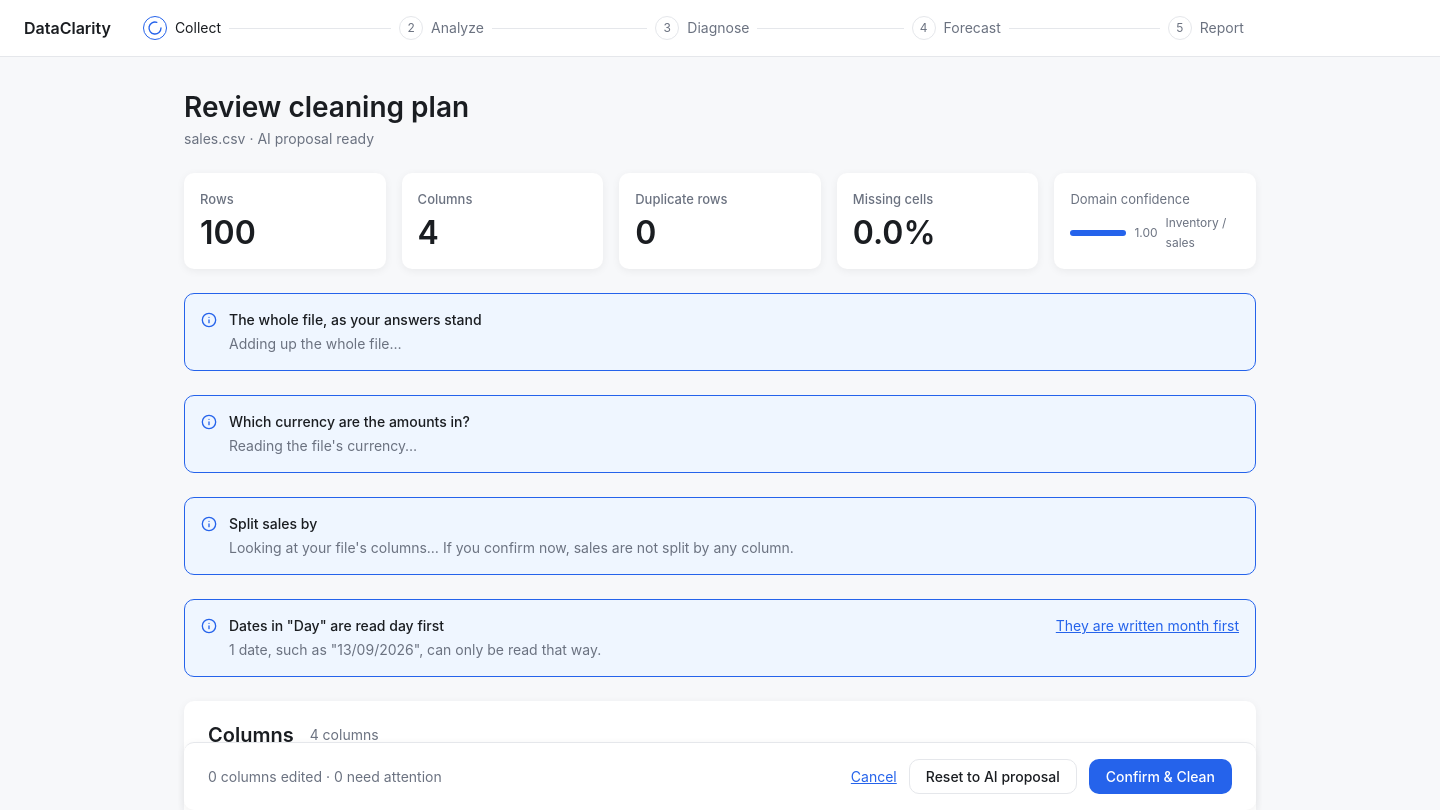
Test: ReviewPage: how the dates are written › can go back to the proof after overriding it
Click the button "They are written month first": (1147, 626) [1056,616,1239,636]
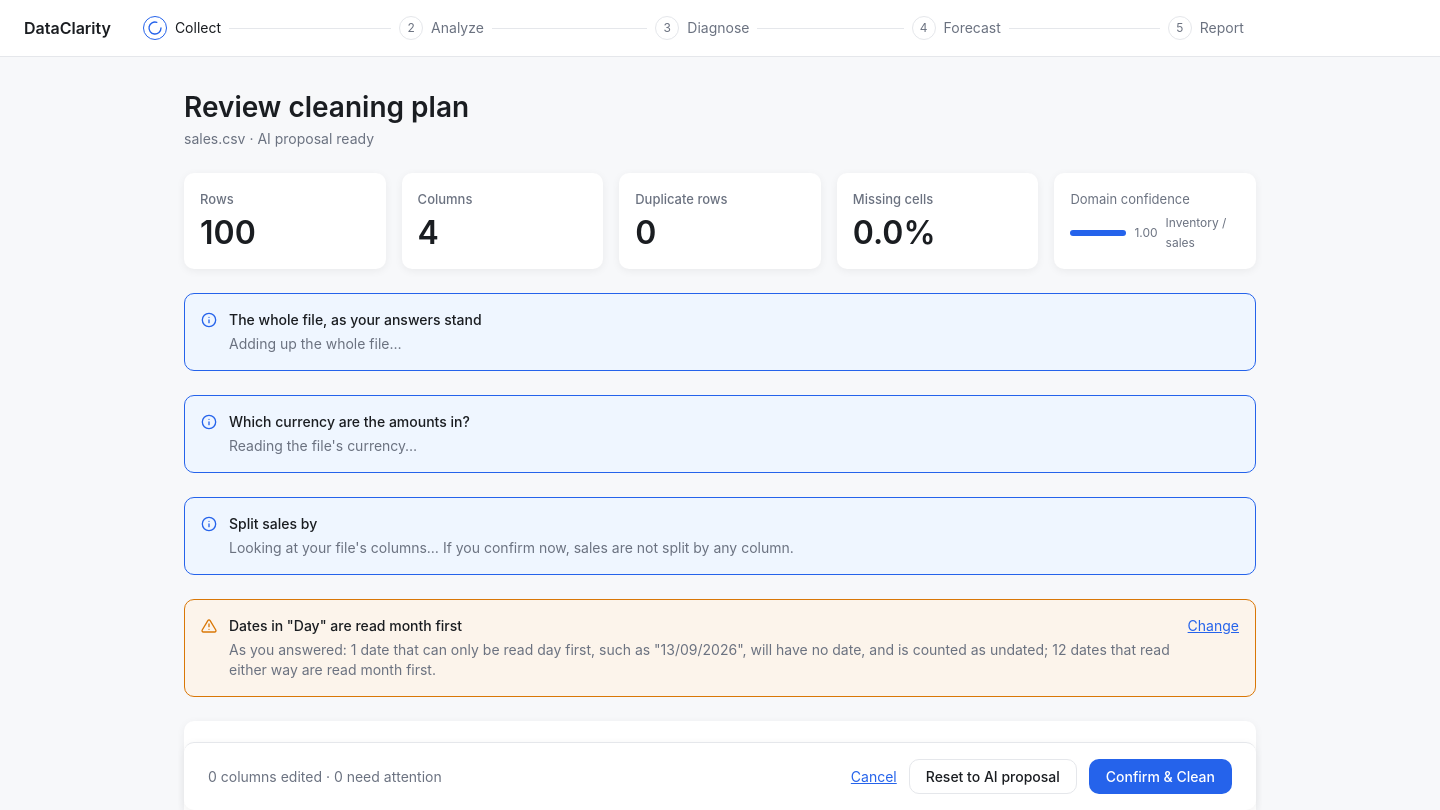
Click the button "Change": (1213, 626) [1188,616,1239,636]
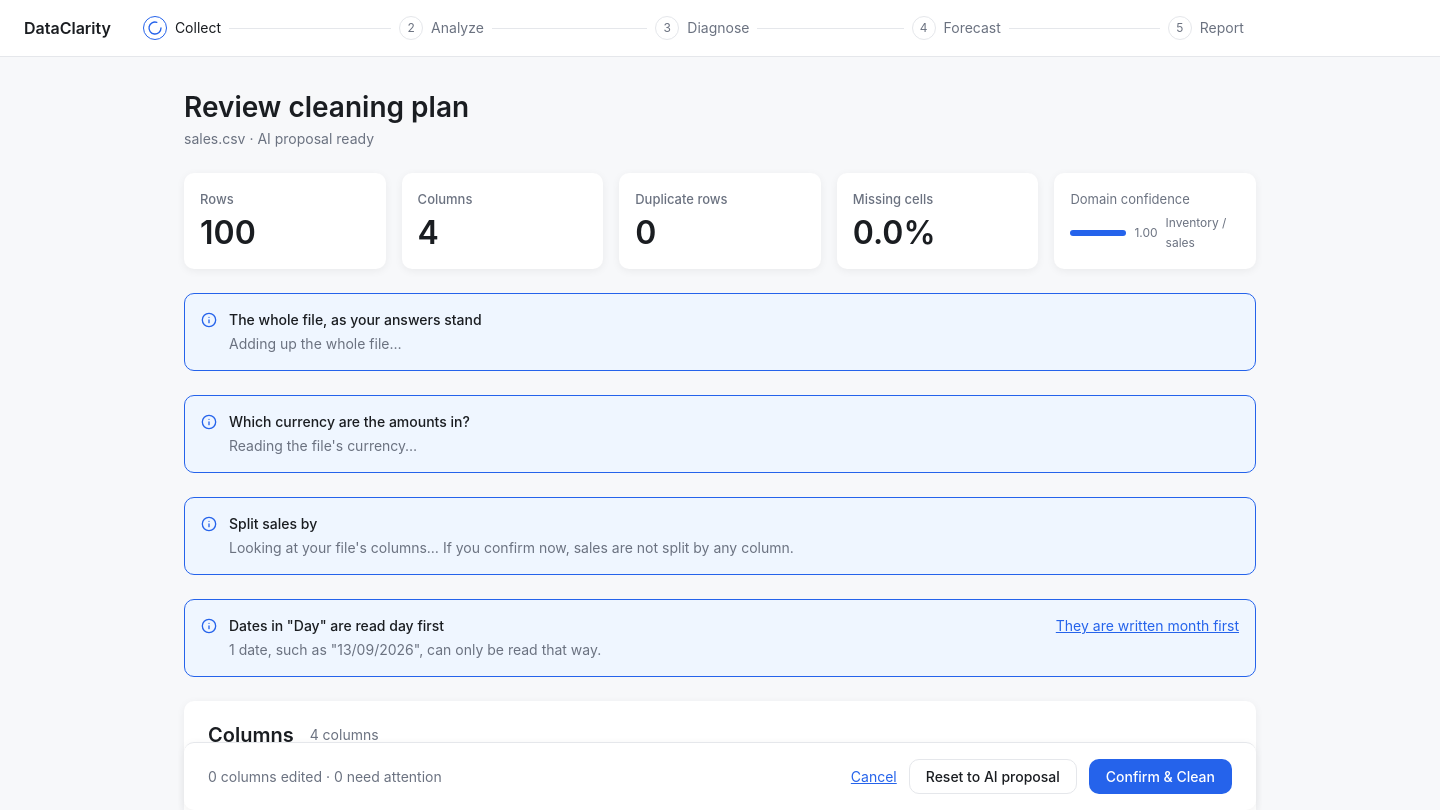
Now the text "Dates in \"Day\" are read day first" is shown, box [229,617,444,634]
Now the button "They are written month first" is shown, box [1056,616,1239,636]
